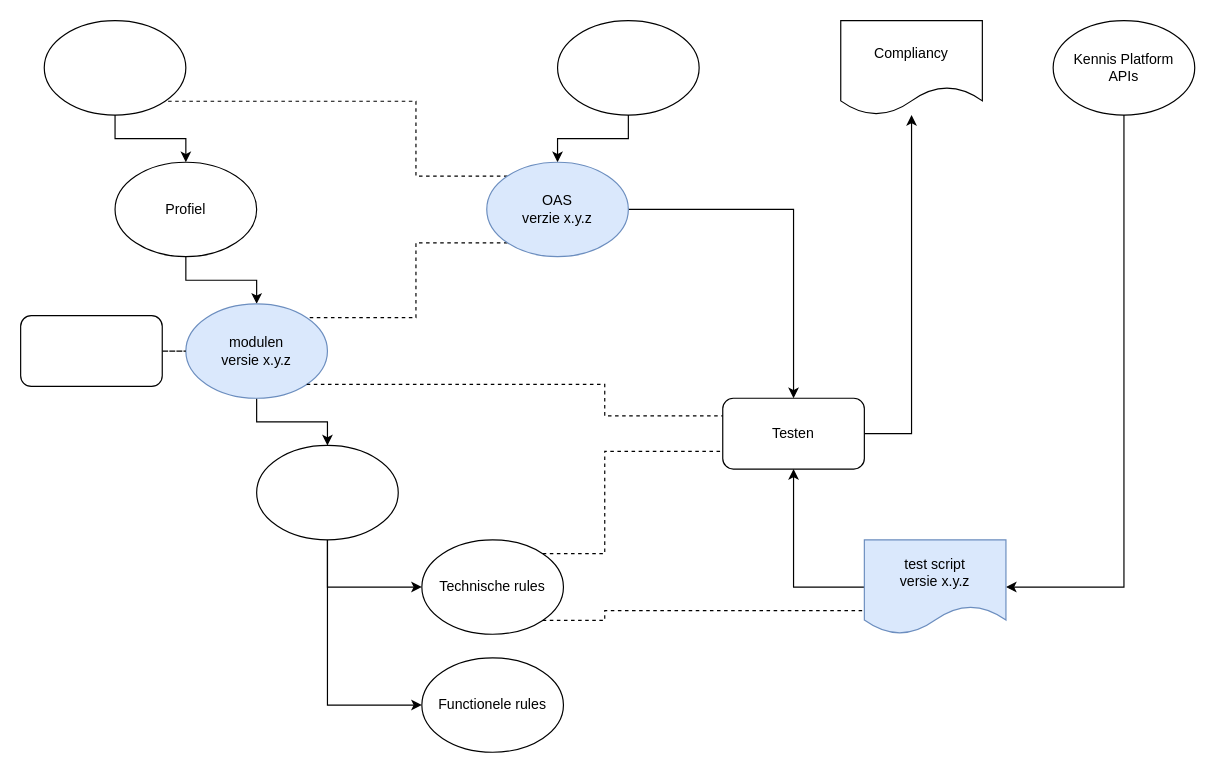
Some shapes in this 1215 by 773 pixel diagram are drawn without their labels. The shapes that lost their labels are listed below. From the top down, each one's centre as x and y in pixels, then its label:
point 114,67: Organisaties
point 627,67: API
point 90,350: NL API Strategie
point 326,492: Rules
